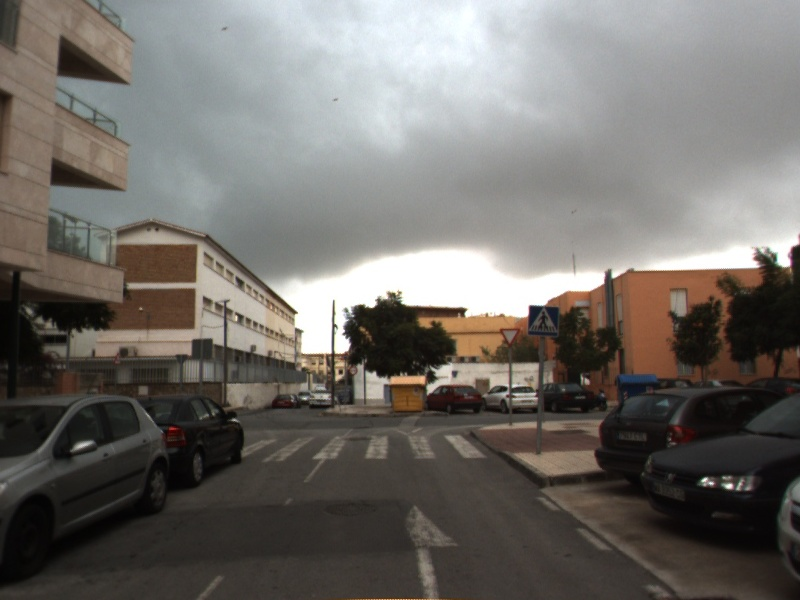STRAIGHT: (403, 501, 463, 600)
